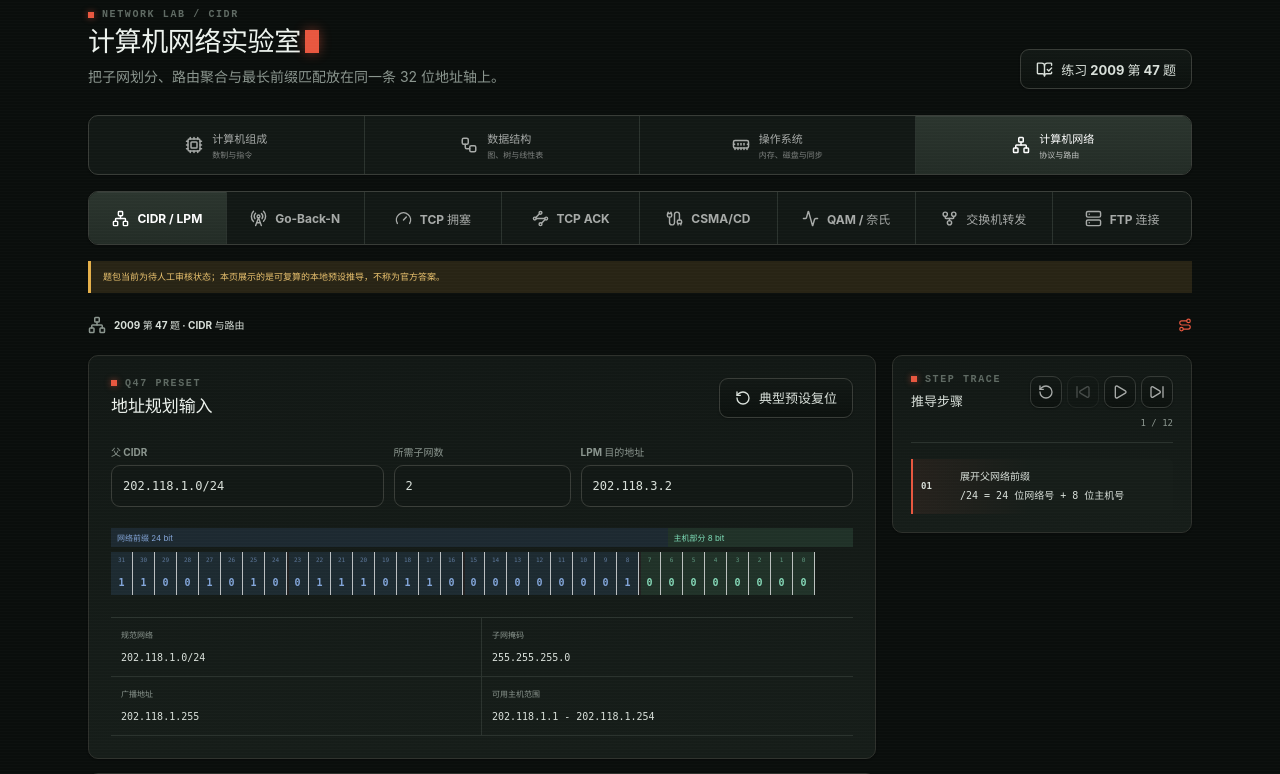
Test case: NetworkLabPage CIDR and route boundaries › represents a /32 parent as 32 prefix bits and reports no traditional host range
Type "202.118.3.2/32" into the field labelled "父 CIDR" at (247, 486), box [111,465,384,507]
(page scrolled)
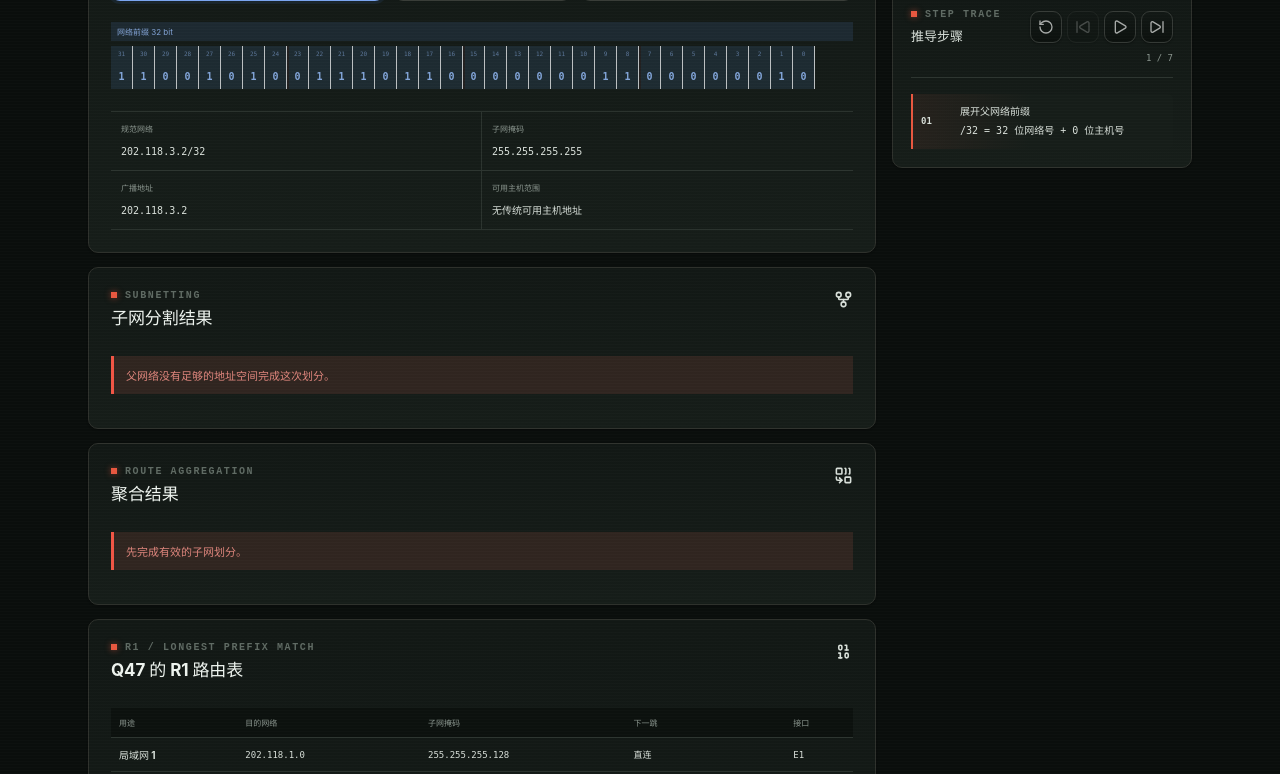
Result: the text "网络前缀 32 bit" is shown at [111,22,853,41]
Result: the text "无传统可用主机地址" is shown at [492,205,582,216]
Result: the message "父网络没有足够的地址空间完成这次划分。" is shown at [111,356,853,394]
